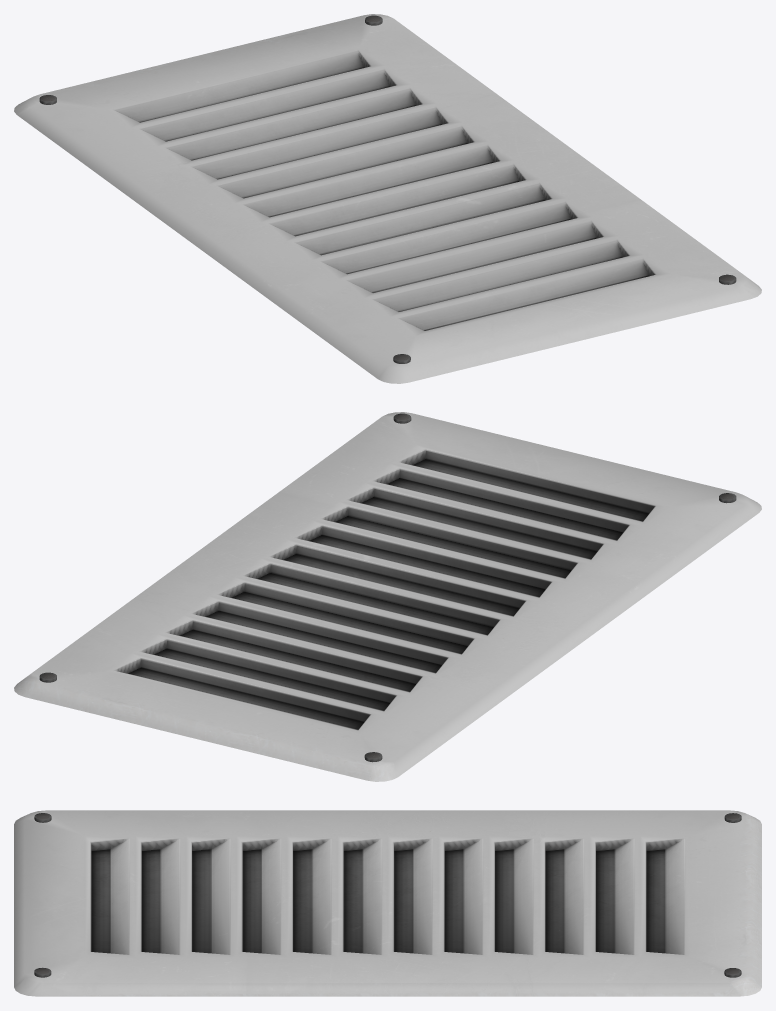
File: Vent1.fbx
3 renders of one model, top to bottom at view 1: azimuth 30°, elevation 25°; view 2: azimuth 150°, elevation 25°; view 3: azimuth 270°, elevation 25°, orthographic. The views are drawn at different scales.
Parts seen in each view (by area): view 1: SM_Vent_A2; view 2: SM_Vent_A2; view 3: SM_Vent_A2.
Boxes of the visible parts, left/top/right/bottom form: SM_Vent_A2: left=14, top=14, right=761, bottom=383; SM_Vent_A2: left=14, top=412, right=761, bottom=781; SM_Vent_A2: left=14, top=810, right=761, bottom=996.
Bounding box in the file's own units: 23.25 × 0.7014 × 40.51.
